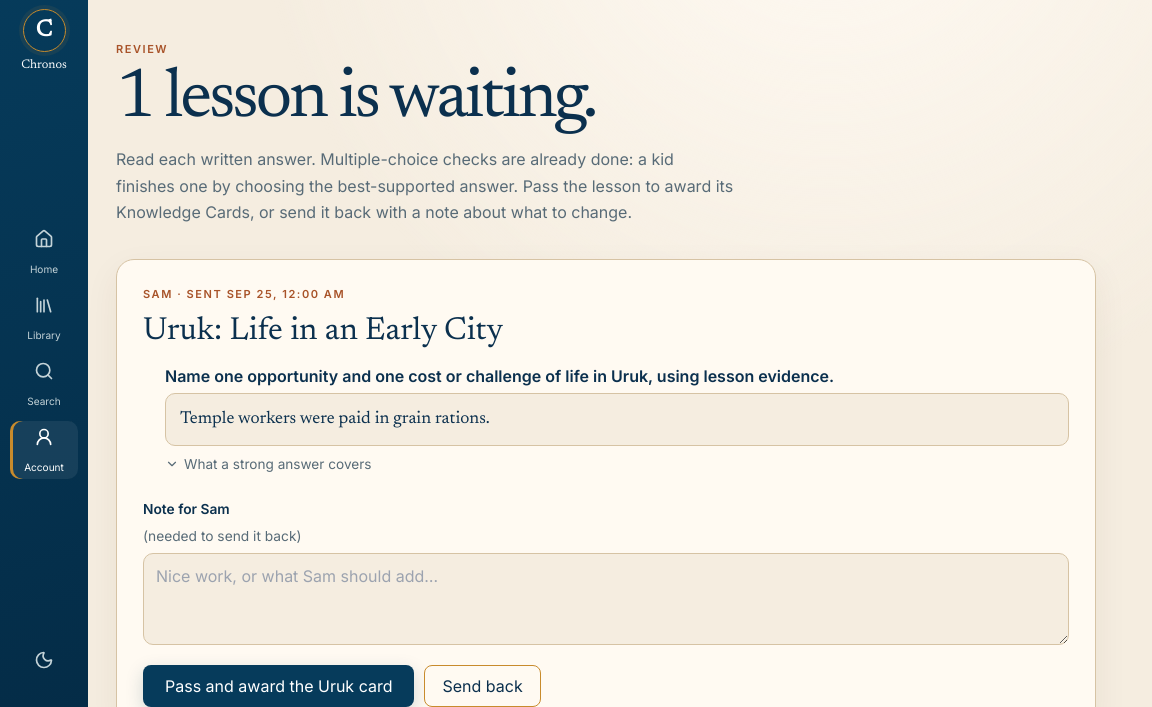
Test: Review page › shows the learner’s answers in words and requires a note to send work back
Expected: the heading "1 lesson is waiting." is shown, [116,65,595,134]
Expected: the text "Temple workers were paid in grain rations." is shown, [165,393,1069,446]
Click the button "Send back".
click(483, 686)  # box [424,665,541,706]
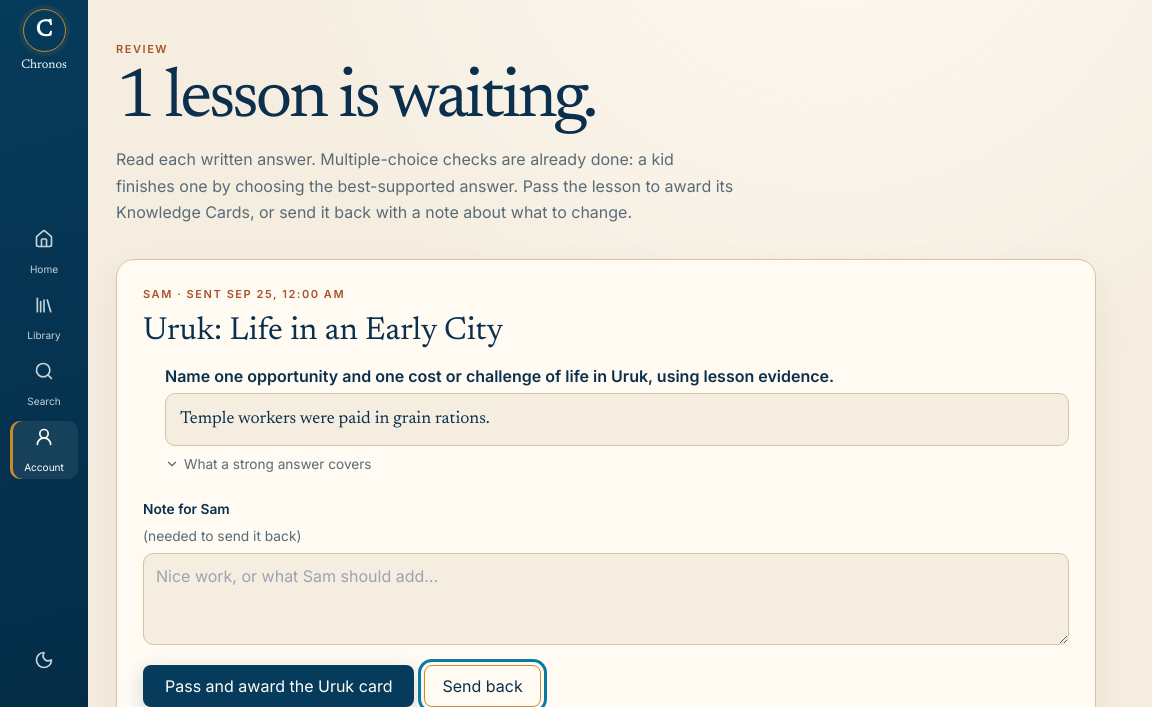
Type "Say who did the work." into the text box labelled "Note for Sam (needed to send it back)".
click(606, 599); type("Say who did the work.")  # box [143,553,1069,645]
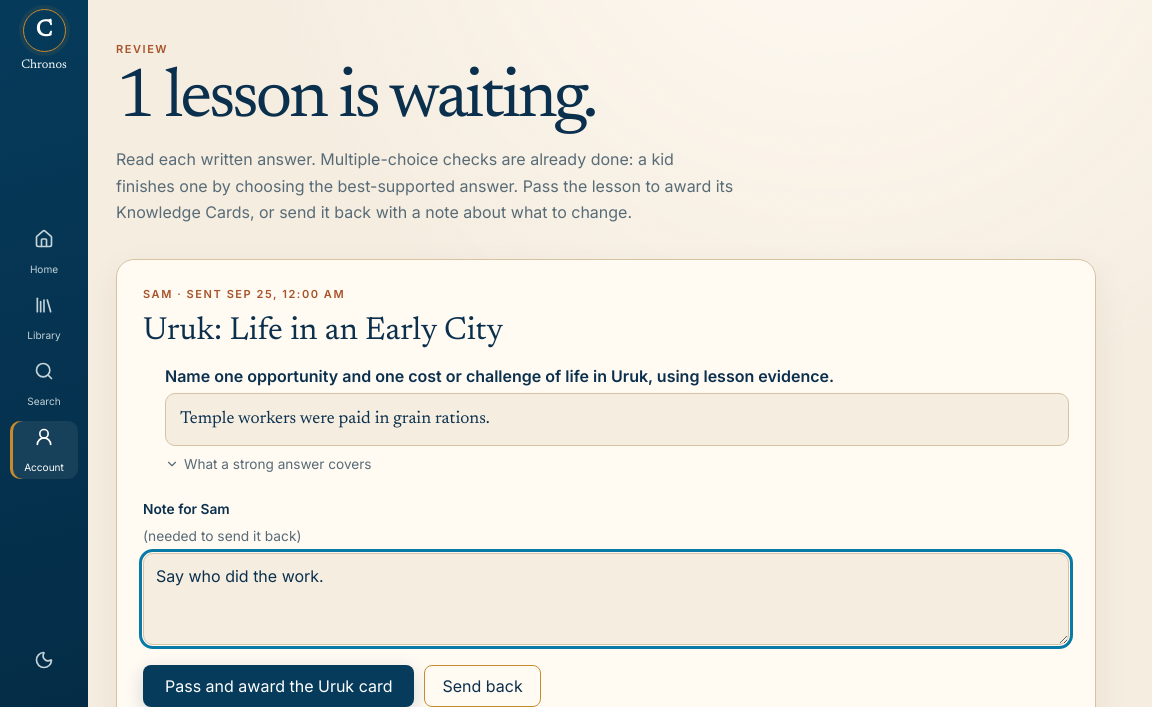
Click the button "Send back".
click(483, 686)  # box [424,665,541,706]
(page scrolled)
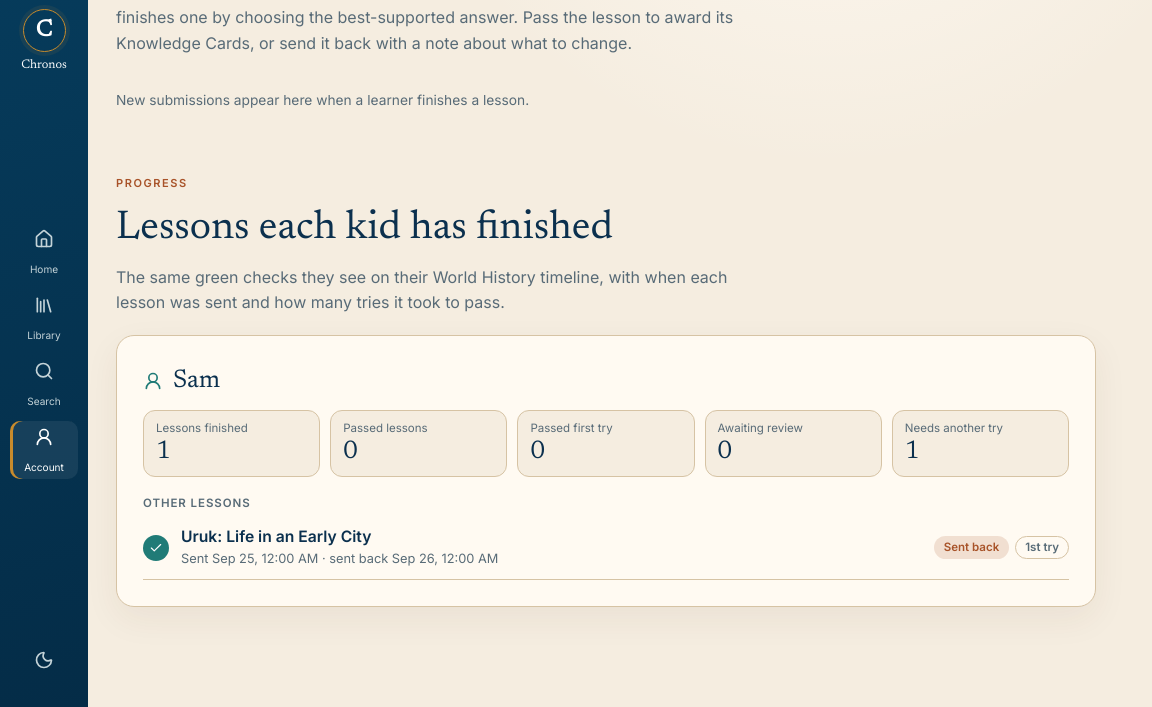
Now the text "Sent back" is shown, box [934,536,1009,559]
